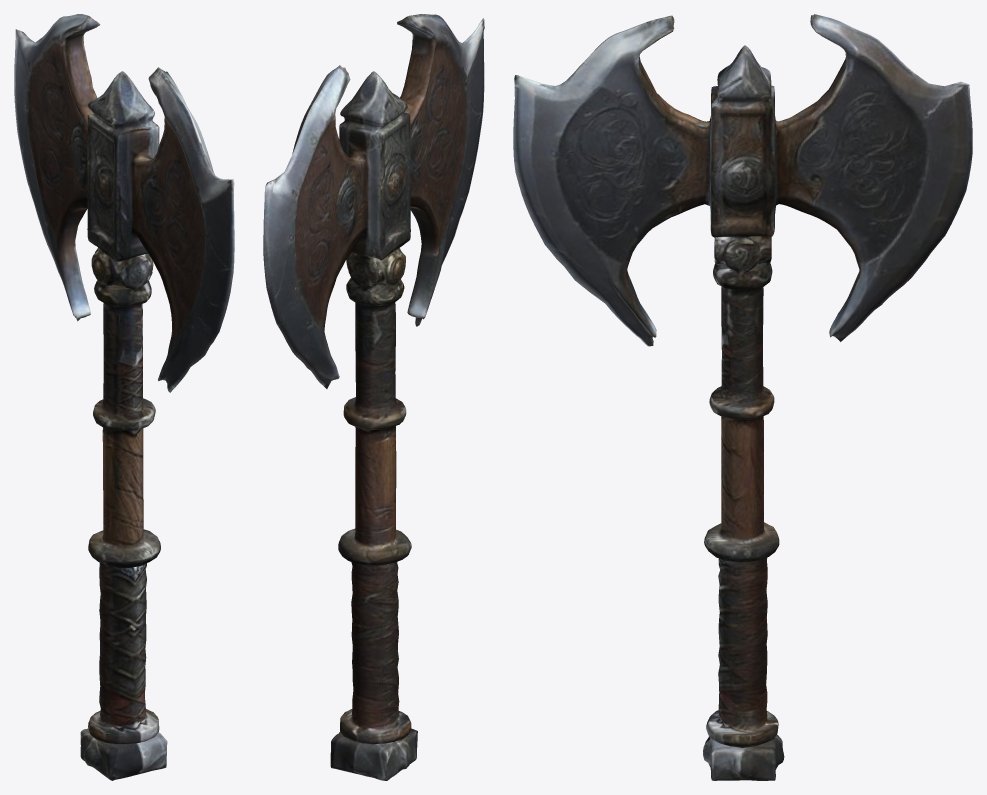
The model's file is PF_Axe1.glb.
3 views of the same model, side by side, from view 1: azimuth 30°, elevation 25°; view 2: azimuth 150°, elevation 25°; view 3: azimuth 270°, elevation 25° (orthographic). The views are drawn at different scales.
Size of the model in its own units: 0.2103 by 1.99 by 1.09.
1 material, 1 textured.
